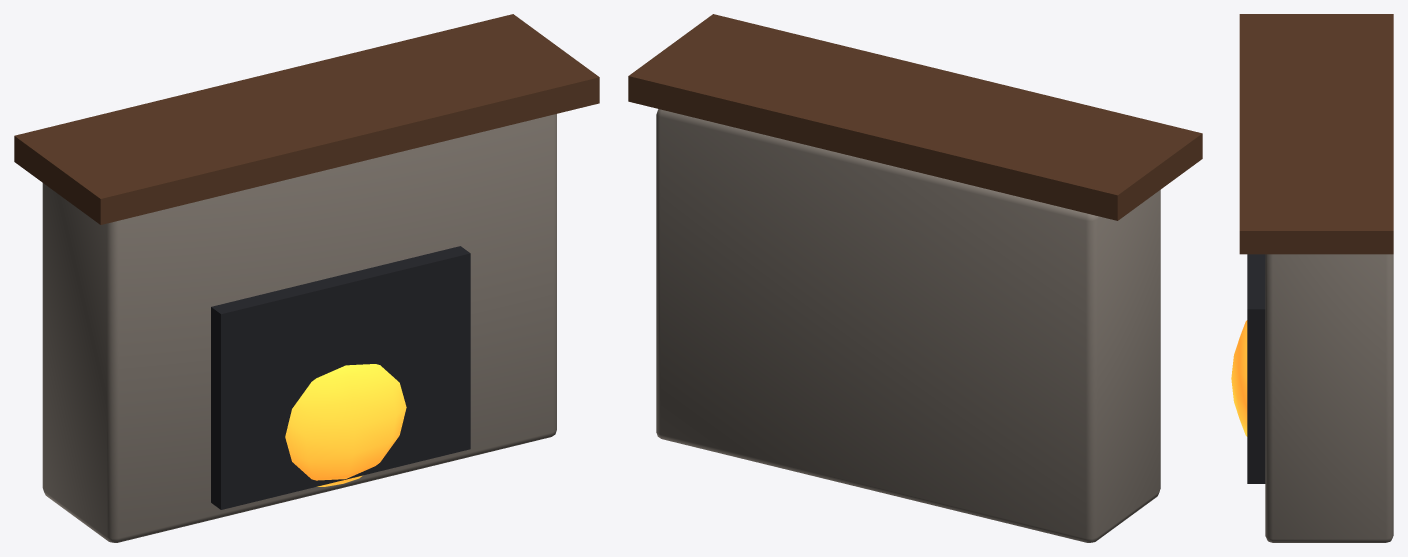
The model's file is fireplace.gltf.
3 renders of one model, left to right at view 1: azimuth 30°, elevation 25°; view 2: azimuth 150°, elevation 25°; view 3: azimuth 270°, elevation 25°, orthographic. The views are drawn at different scales.
Visible parts, largest first — view 1: fireplace_mesh, ANIM_fire; view 2: fireplace_mesh; view 3: fireplace_mesh, ANIM_fire.
Part boxes in pixels (bbox=[...]): fireplace_mesh: bbox=[14, 14, 599, 542]; ANIM_fire: bbox=[285, 364, 406, 486]; fireplace_mesh: bbox=[628, 14, 1202, 542]; fireplace_mesh: bbox=[1239, 14, 1393, 542]; ANIM_fire: bbox=[1231, 320, 1247, 436].
Bounding box in the file's own units: 2 × 1.4 × 0.632.
